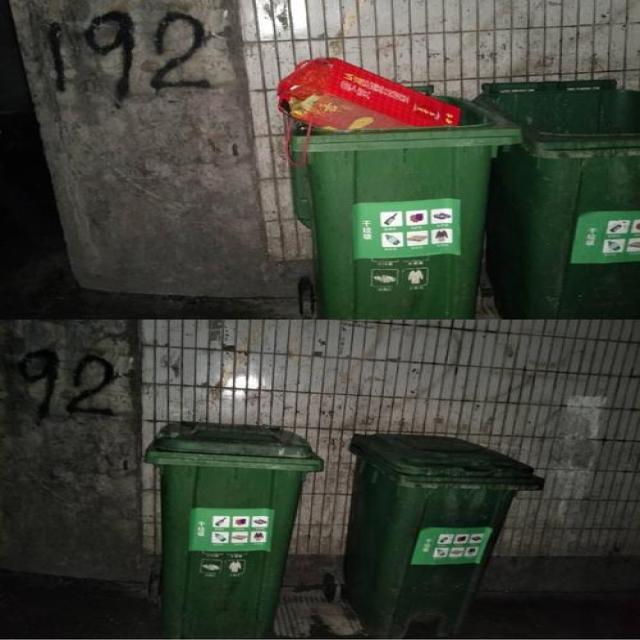garbage_bin: (344, 432, 546, 639), (471, 77, 639, 317), (143, 421, 324, 639)
overflow: (276, 55, 521, 316)
